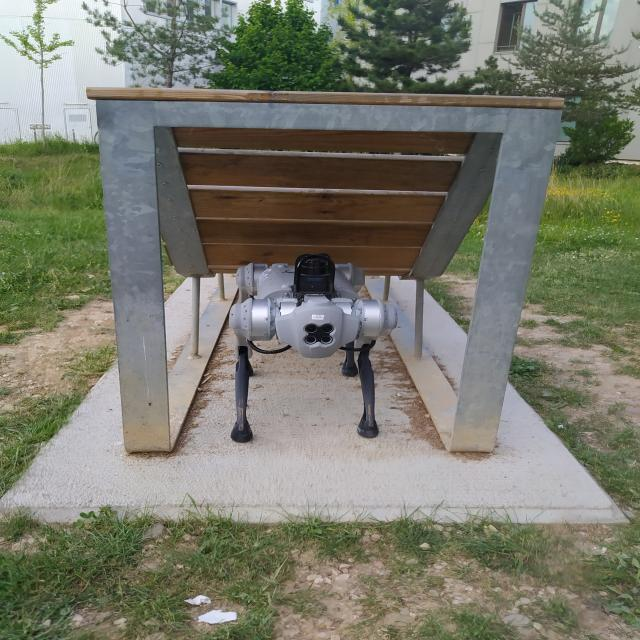unitree-go1-robot: (218, 252, 404, 458)
